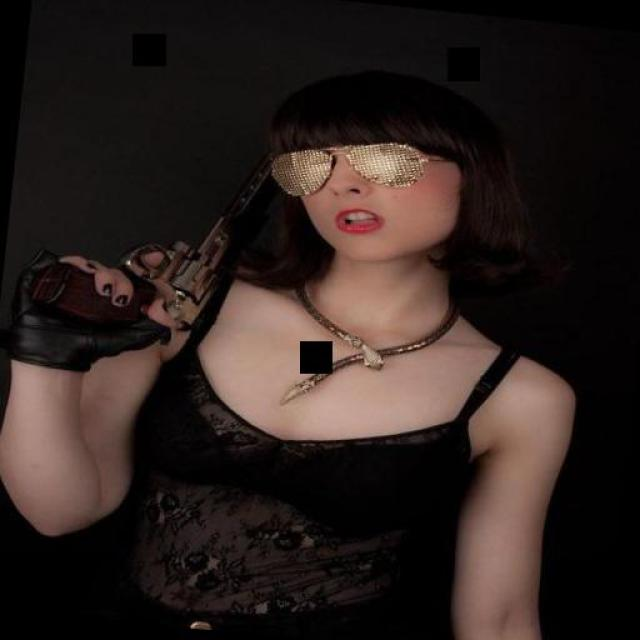gun: (17, 119, 295, 344)
